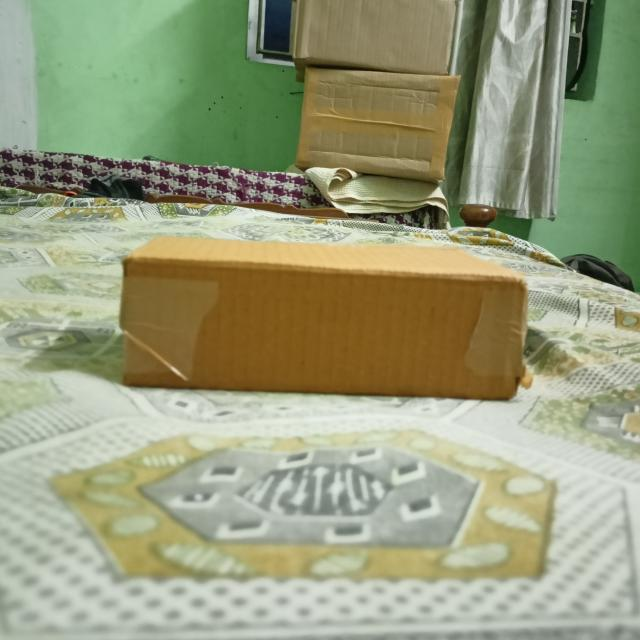box: (125, 258, 530, 399)
